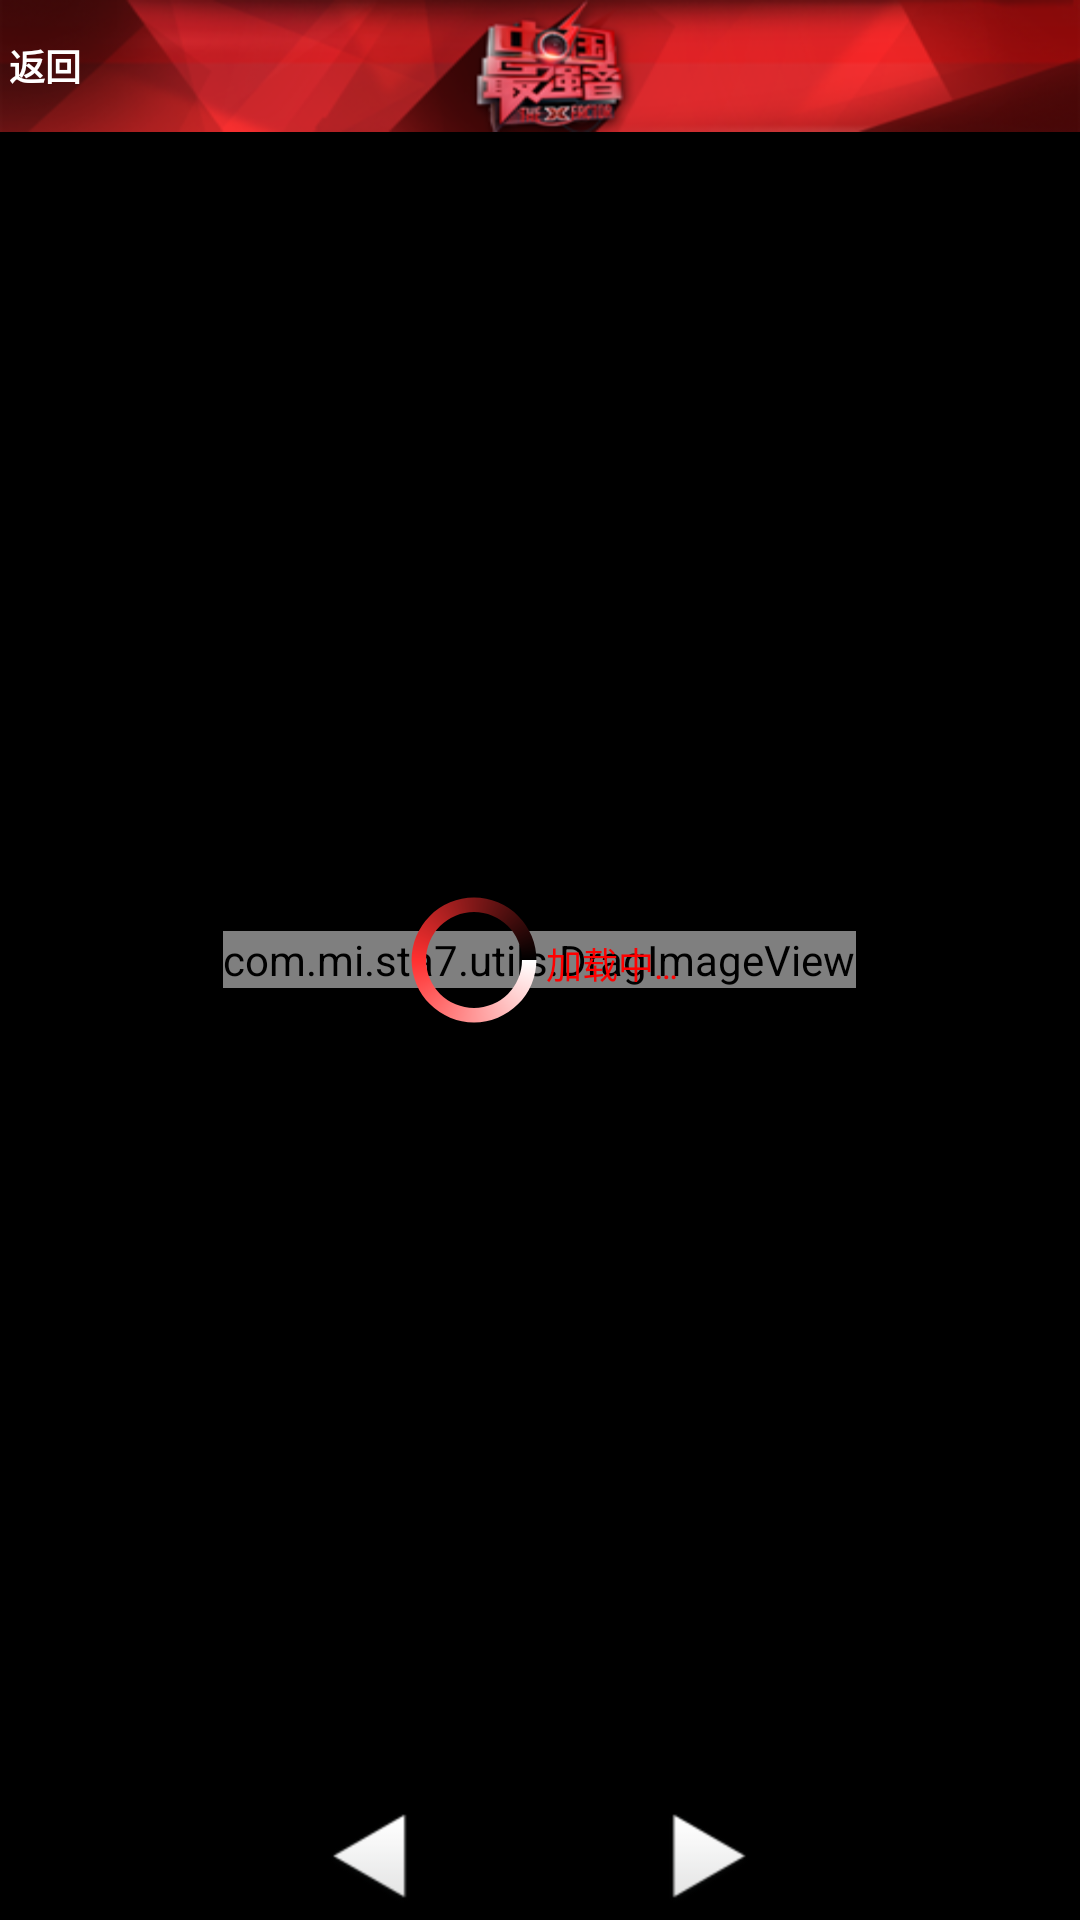

Named icons in this screenshot (1080 x 1920) and their bounding boxes, (x1, y1, x2, y2):
next: (672, 1814, 745, 1898)
